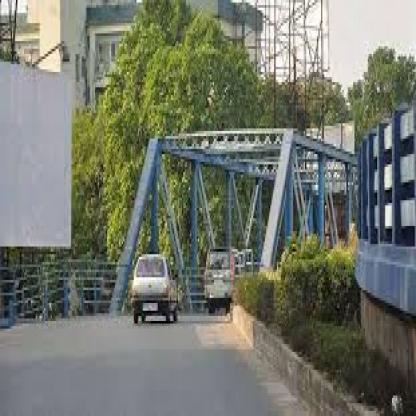car: (127, 251, 185, 333), (201, 238, 256, 316)
